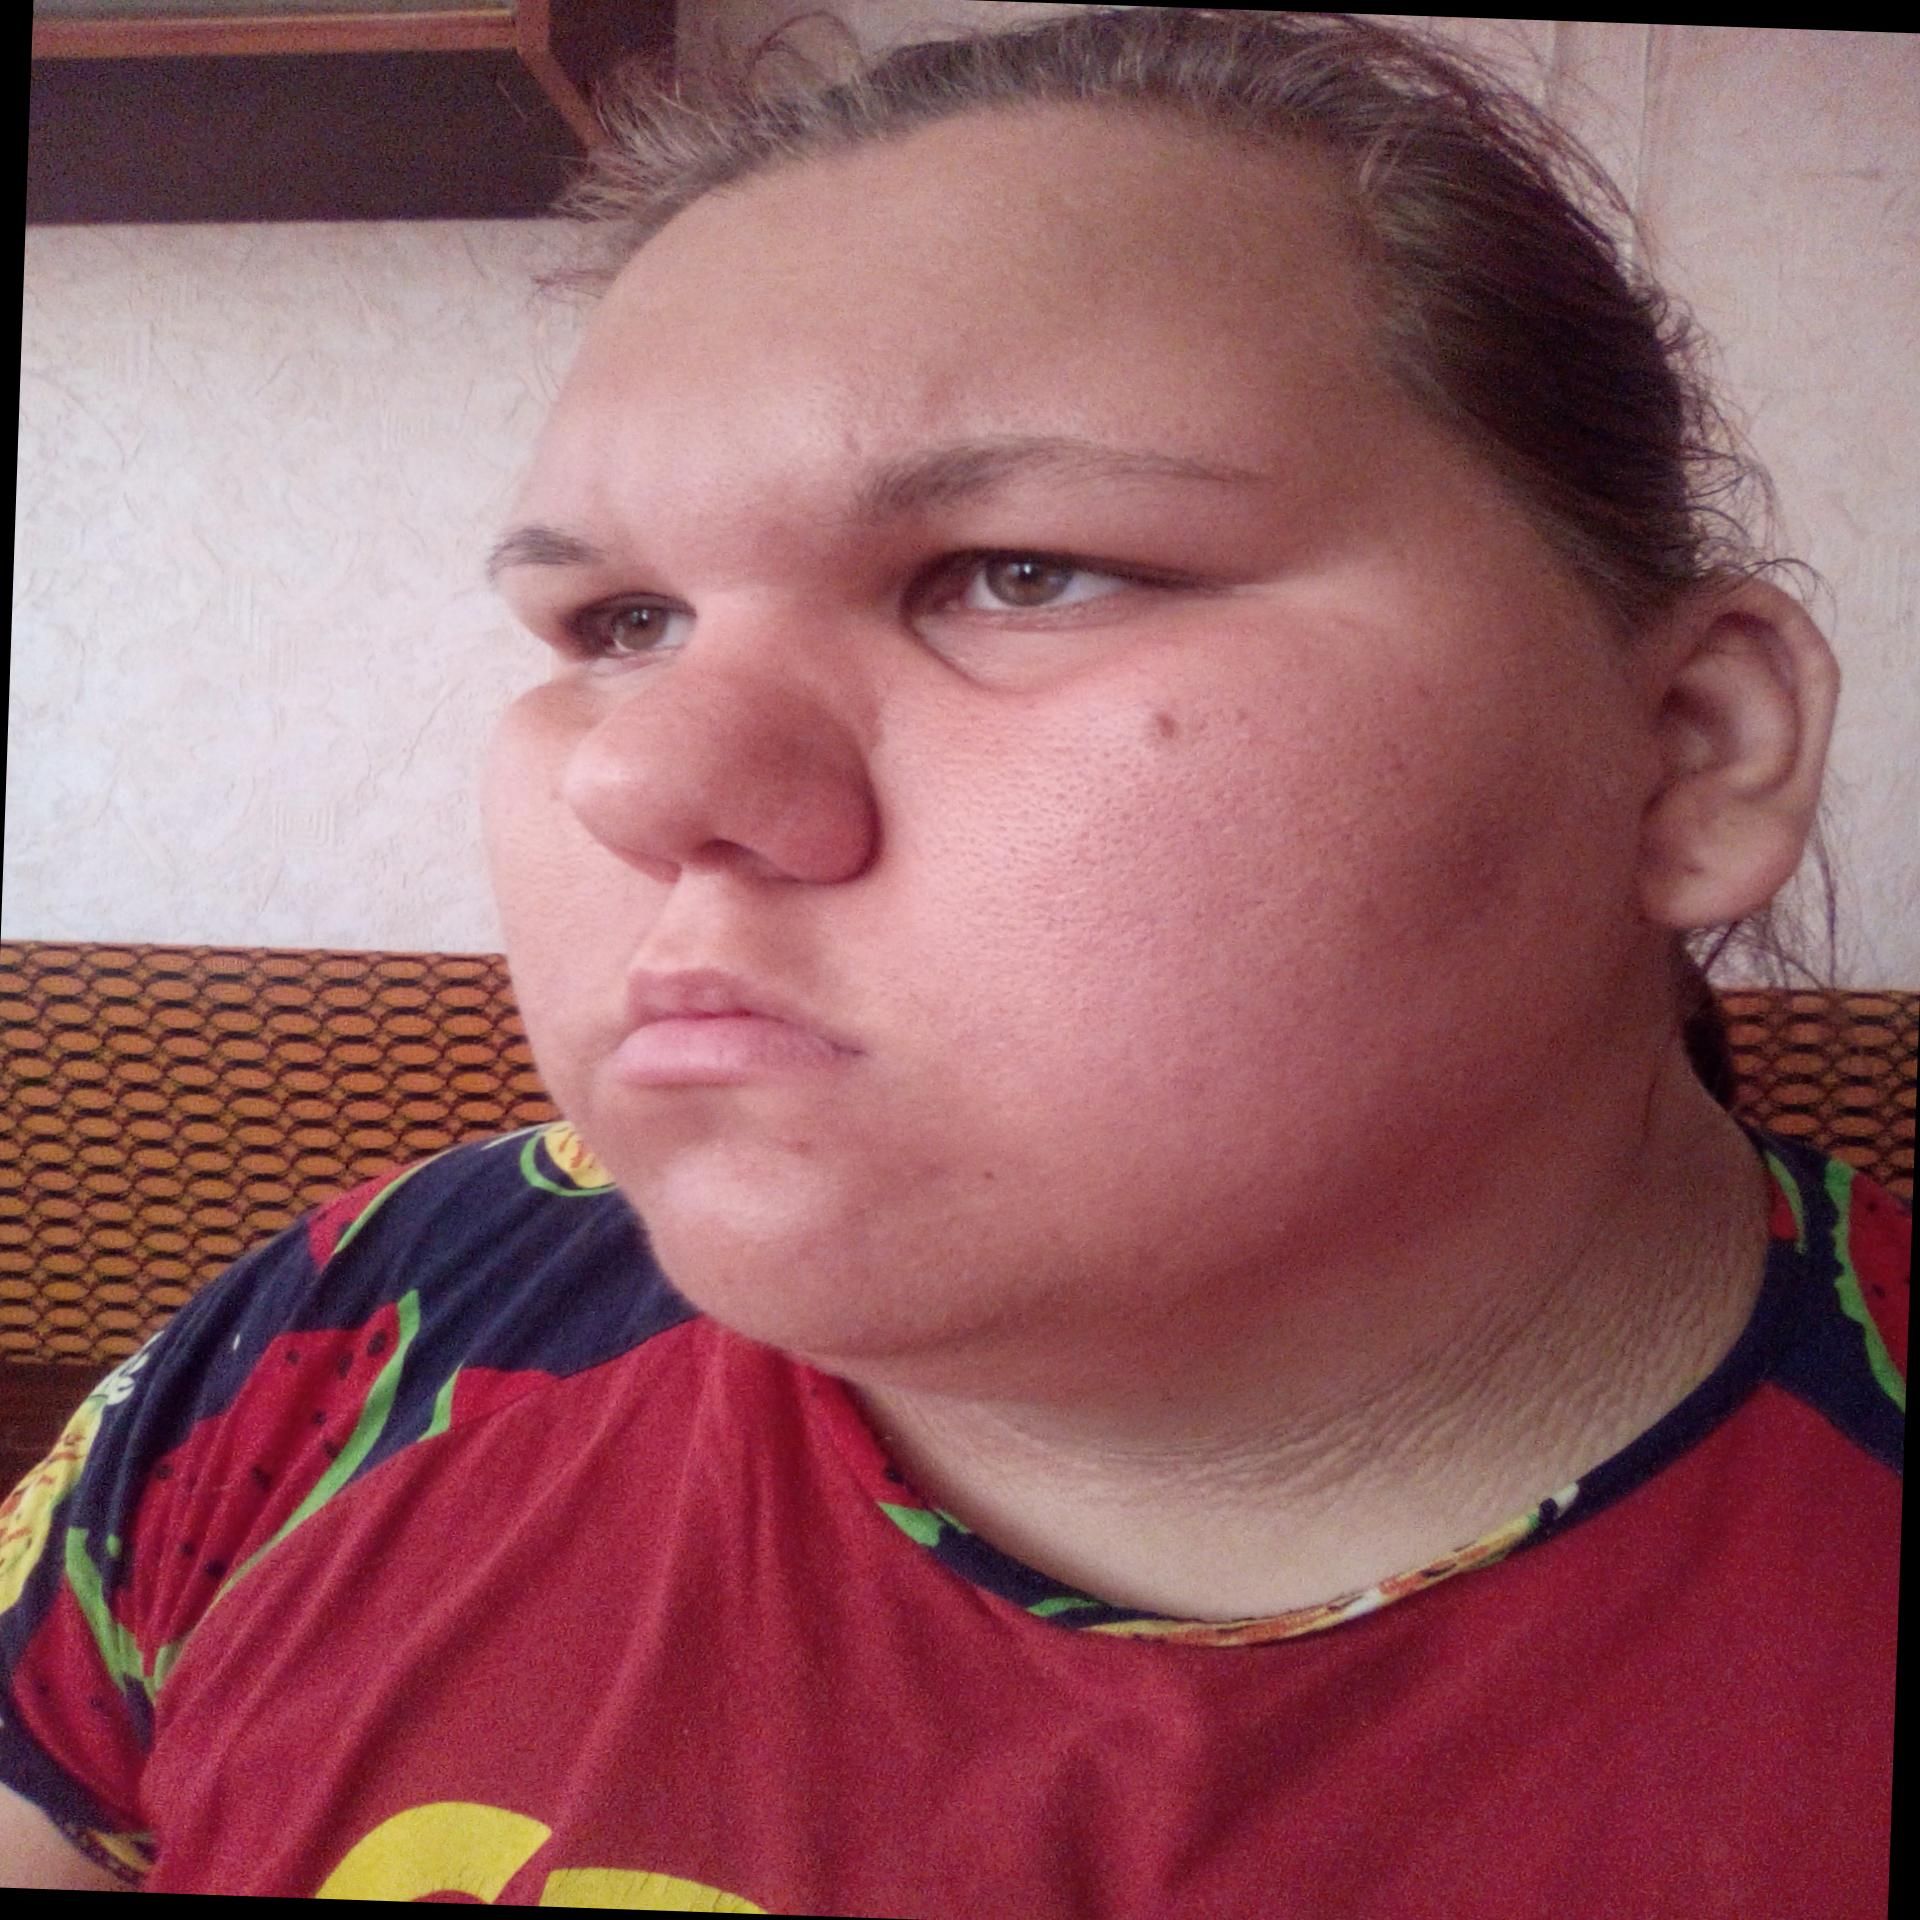Acne: (1109, 700, 1190, 761), (744, 1122, 826, 1173)
Dark Circles: (860, 598, 1162, 705)
Englarged Pores: (930, 765, 1276, 1050), (879, 707, 1095, 774), (503, 814, 571, 921), (524, 928, 608, 1011)
